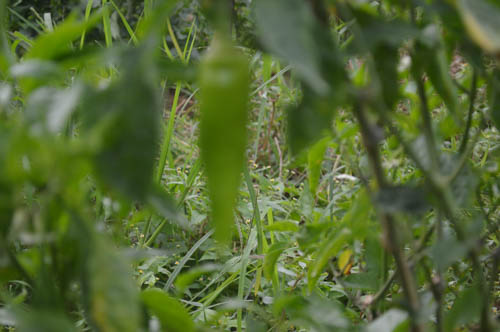ChiliPepper: (195, 57, 253, 249)
